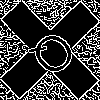Q: (25, 25, 87, 87)
